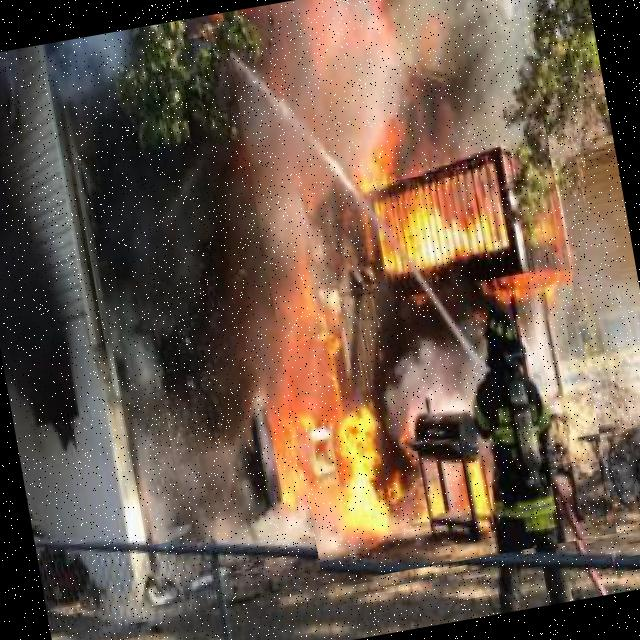fire: (222, 0, 616, 584)
